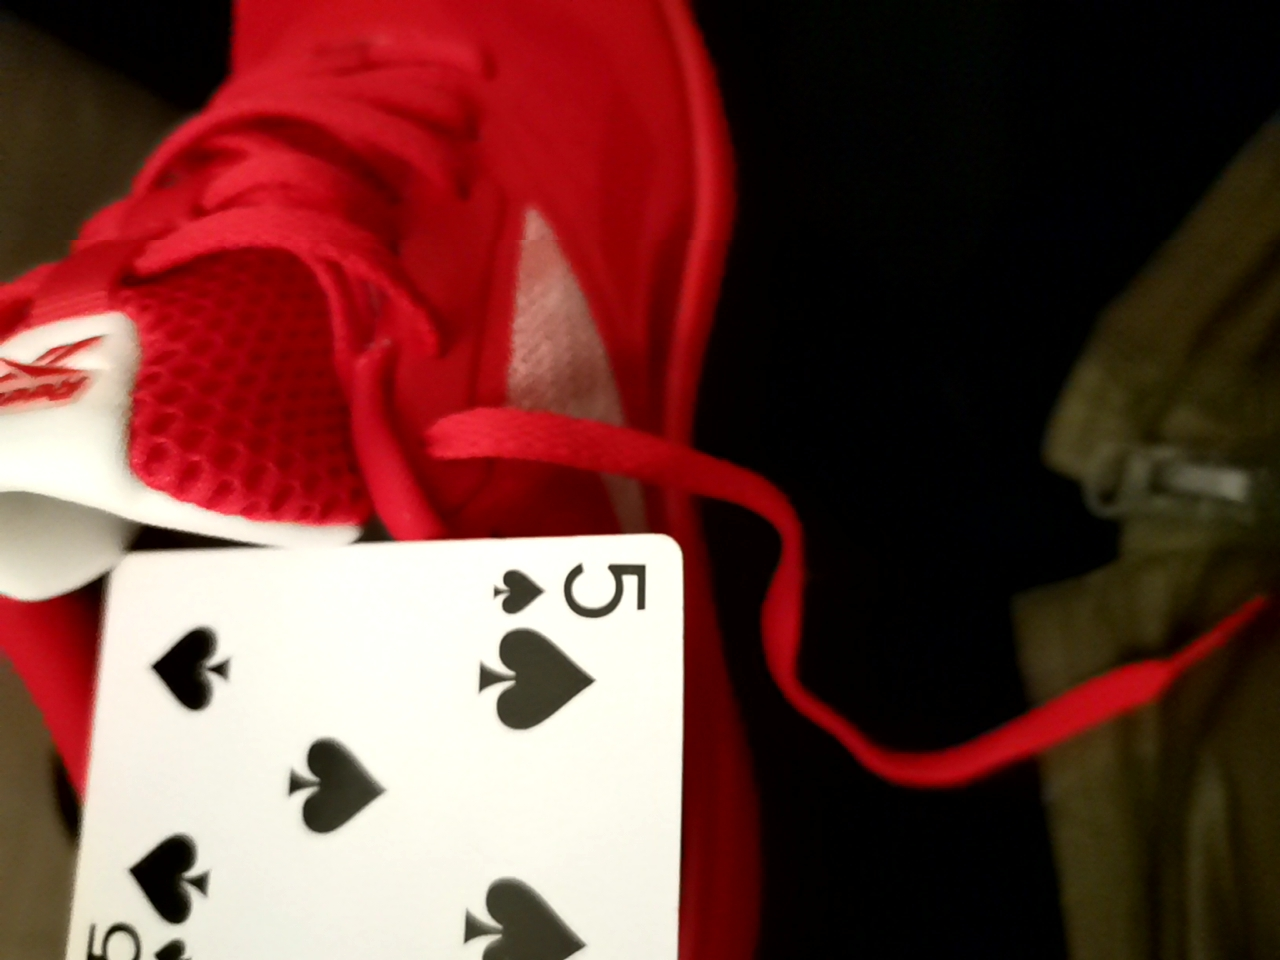ht 5: (70, 538, 708, 957)
